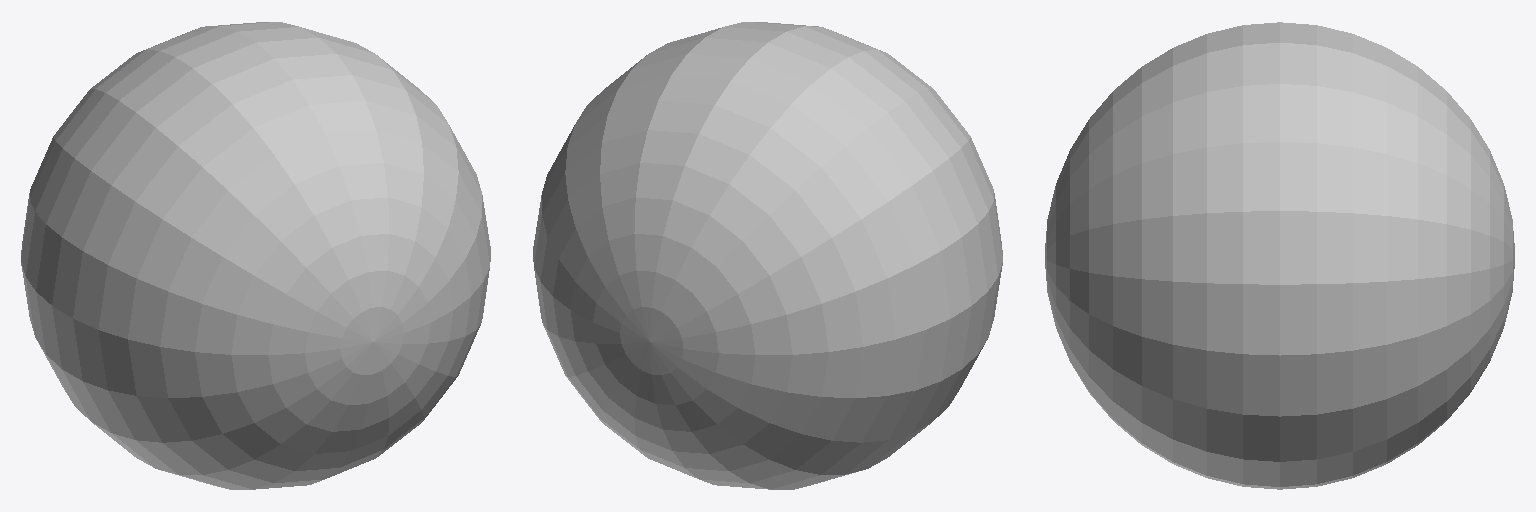
The model's file is UVmap.obj.
3 renders of one model, left to right at view 1: azimuth 30°, elevation 25°; view 2: azimuth 150°, elevation 25°; view 3: azimuth 270°, elevation 25°, orthographic.
Visible parts, largest first — view 1: pSphere1; view 2: pSphere1; view 3: pSphere1.
Boxes of the visible parts, x1=… form: pSphere1: x1=21, y1=22, x2=490, y2=489; pSphere1: x1=533, y1=22, x2=1002, y2=489; pSphere1: x1=1045, y1=22, x2=1514, y2=489.
Bounding box in the file's own units: 2 × 2 × 2.